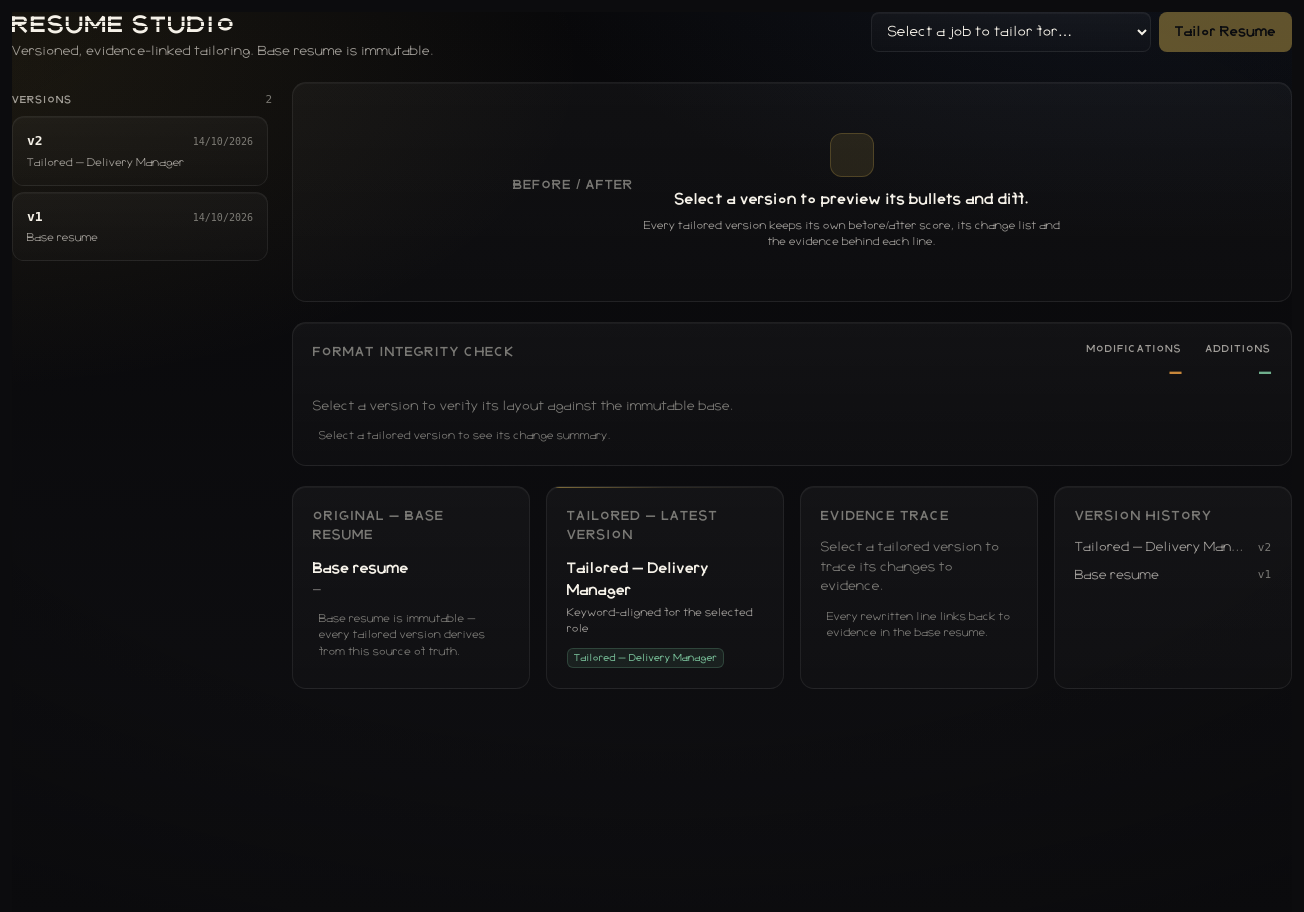
Scenario: U2b truth round — verified fidelity in Resume Studio › renders the verified per-change report for the opened version, not the listing's pending claim
Click the button with test id "resume-version-card" at (140, 151), box left=12, top=116, right=268, bottom=186
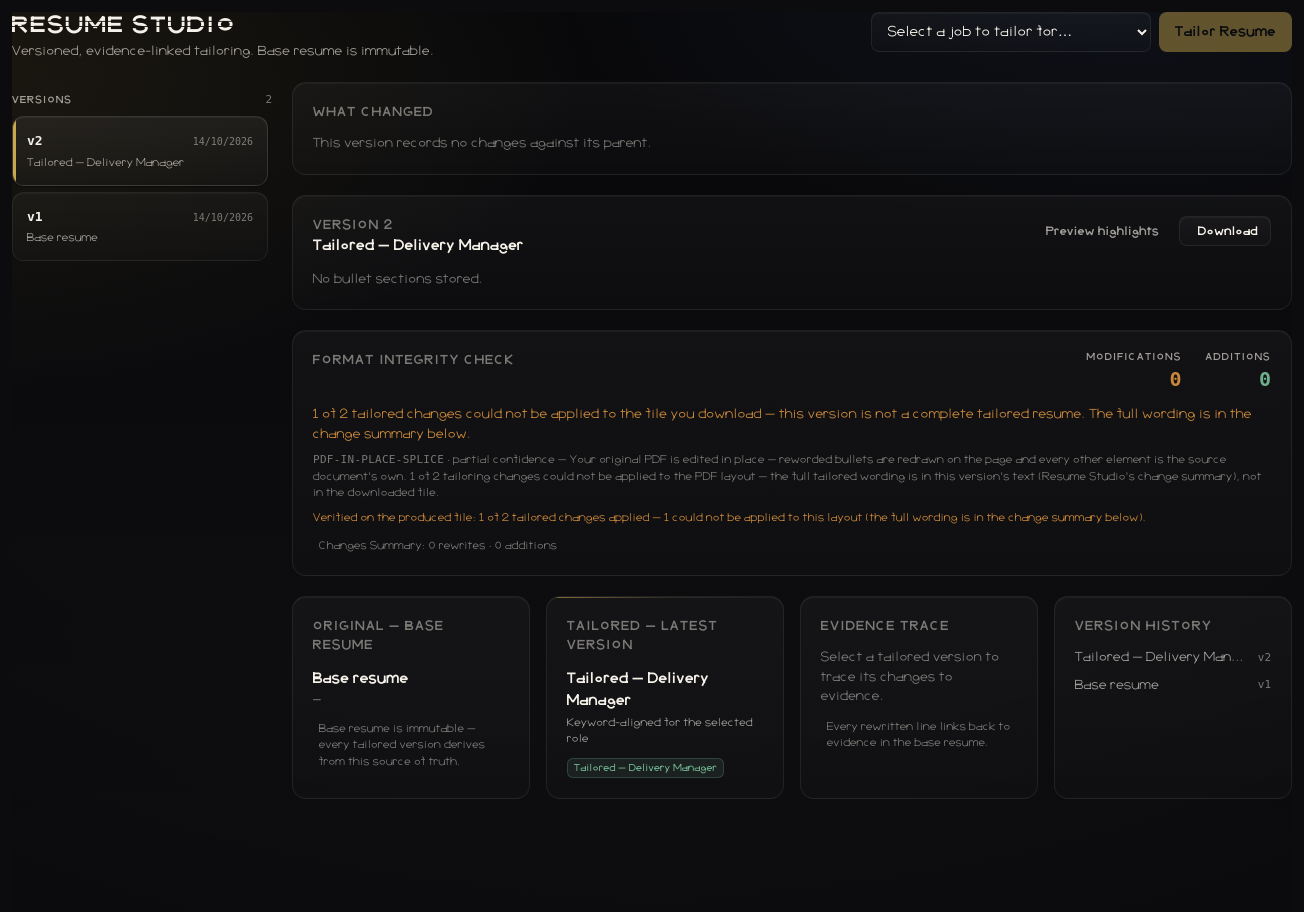
Now the element with test id "format-fidelity-detail" shows "could not be applied", box left=313, top=454, right=1262, bottom=498
Now the element with test id "format-fidelity-detail" shows "partial", box left=453, top=454, right=490, bottom=465
Now the text with test id "format-fidelity-counts" shows "1 of 2", box left=313, top=512, right=1146, bottom=523
